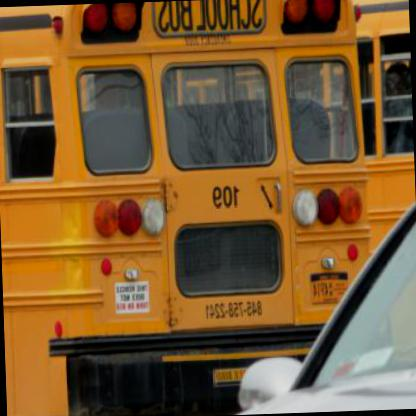bus: (0, 0, 378, 415), (165, 0, 415, 373)
